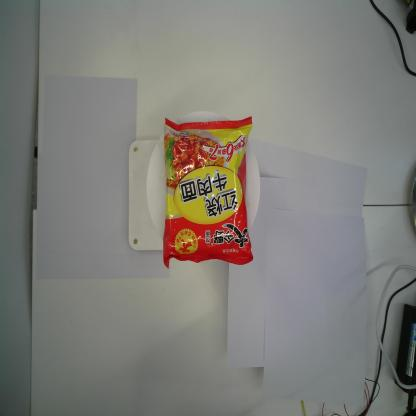Instant Noodles: (162, 116, 256, 270)
